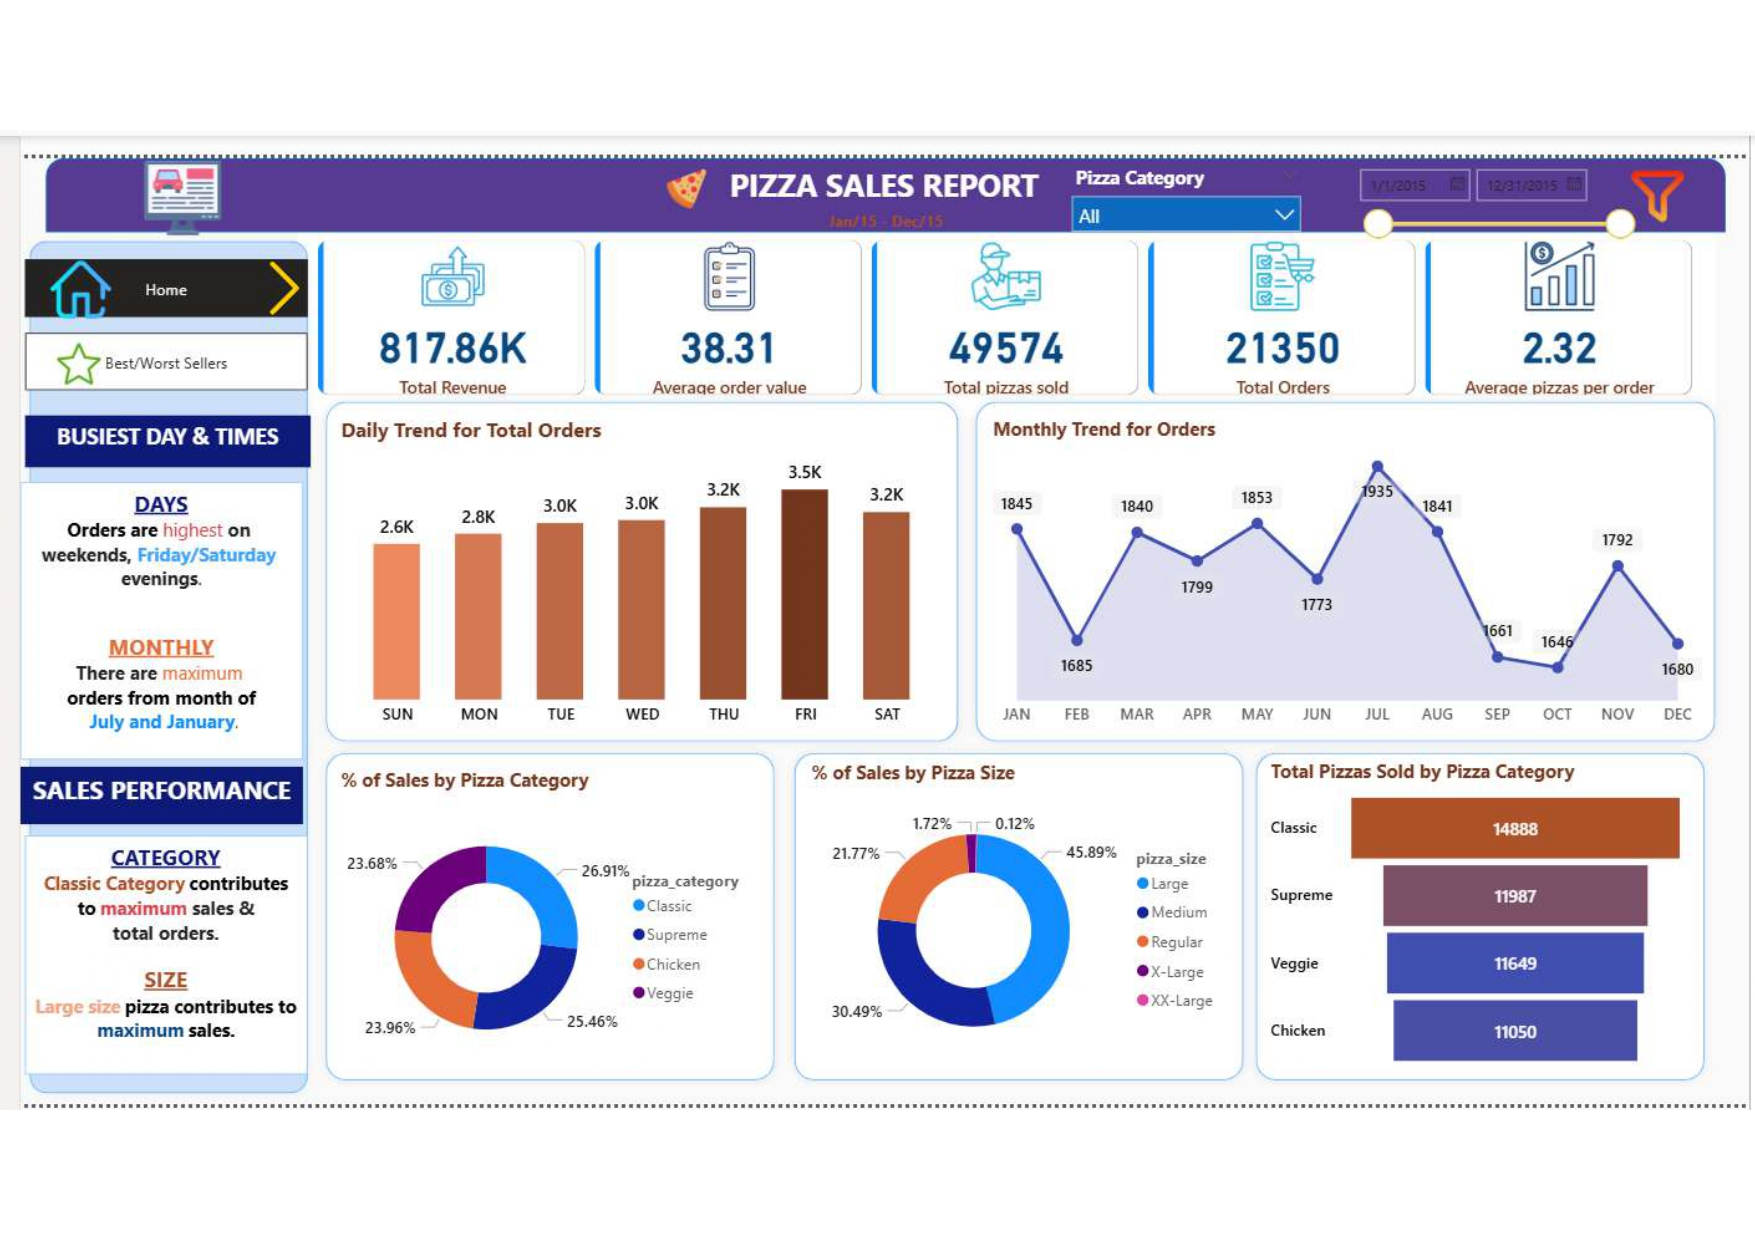

What the dashboard file says about the page in this screenshot:
{"tool":"powerbi","page":{"name":"Home","canvas":[1500,820],"ordinal":0},"visuals":[{"type":"cardVisual","fields":{"Data":["pizza_sales.Total Revenue","pizza_sales.Average order value","pizza_sales.Total pizzas sold","pizza_sales.Total Orders","pizza_sales.Average pizzas per order"]},"box":[241.1,53.6,1228.6,169.6],"z":0},{"type":"shape","box":[21.4,0,1457.1,64.3],"z":1000},{"type":"textbox","box":[678.6,39.3,142.9,28.6],"z":2000},{"type":"textbox","box":[578.6,0,342.9,46.4],"z":3000},{"type":"image","box":[560.7,0,35.7,53.6],"z":4000},{"type":"shape","box":[257.1,203.6,564.3,310.7],"z":5000},{"type":"shape","box":[0,64.3,257.1,755.4],"z":6000},{"type":"columnChart","title":"Daily Trend for Total Orders","fields":{"Category":["pizza_sales.order_Day"],"Y":["pizza_sales.Total Orders"]},"box":[273.2,223.2,533.9,278.6],"z":7000},{"type":"shape","box":[821.4,203.6,657.1,310.7],"z":8000},{"type":"areaChart","title":"Monthly Trend for Orders","fields":{"Category":["pizza_sales.order_Month"],"Y":["pizza_sales.Total Orders"]},"box":[839.3,223.2,625,278.6],"z":9000},{"type":"shape","box":[662.5,508.9,405.4,300],"z":10000},{"type":"shape","box":[1064.3,508.9,405,300],"z":11000},{"type":"shape","box":[257.1,508.9,405,300],"z":12000},{"type":"donutChart","title":"% of Sales by Pizza Category","fields":{"Category":["pizza_sales.pizza_category"],"Y":["pizza_sales.Total Revenue"]},"box":[273.2,528.6,371.4,276],"z":13000},{"type":"donutChart","title":"% of Sales by Pizza Size","fields":{"Y":["pizza_sales.Total Revenue"],"Category":["pizza_sales.pizza_size"]},"box":[680.4,521.4,371.4,275],"z":14000},{"type":"funnel","title":"Total Pizzas Sold by Pizza Category","fields":{"Category":["pizza_sales.pizza_category"],"Y":["pizza_sales.Total pizzas sold"]},"box":[1080.4,519.6,369.6,276.8],"z":15000},{"type":"textbox","box":[4.8,223.8,247.6,45.2],"z":16000},{"type":"textbox","box":[0,281,245.2,240.5],"z":17000},{"type":"textbox","box":[0,528.6,245.2,50],"z":18000},{"type":"textbox","box":[4.8,588.1,245.2,207.1],"z":19000},{"type":"slicer","fields":{"Values":["pizza_sales.pizza_category"]},"box":[901.8,0,217.9,64.3],"z":20000},{"type":"slicer","fields":{"Values":["pizza_sales.order_date"]},"box":[1150,0,259.5,138.1],"z":21000},{"type":"pageNavigator","box":[4.8,88.1,245.2,50],"z":22000},{"type":"pageNavigator","box":[4.8,152.4,245.2,50],"z":23000},{"type":"image","box":[204.8,88.1,47.6,50],"z":24000},{"type":"image","box":[0,88.1,104.8,52.4],"z":25000},{"type":"image","box":[21.4,159.5,57.1,38.1],"z":26000},{"type":"image","box":[1359.5,0,119,64.3],"z":27000},{"type":"image","box":[54.8,0,173.8,69],"z":27001}]}

Visuals, with their boxes on the page's 1500x820 design canvas (x1, y1, x2, y2). These are canvas units, not pixel positions in the 1755x1240 screenshot, which may show the page scaled, cropped or inside an application window:
cardVisual - pizza_sales.Total Revenue x pizza_sales.Average order value: (x1=241, y1=54, x2=1470, y2=223)
shape: (x1=21, y1=0, x2=1478, y2=64)
textbox: (x1=679, y1=39, x2=822, y2=68)
textbox: (x1=579, y1=0, x2=922, y2=46)
image: (x1=561, y1=0, x2=596, y2=54)
shape: (x1=257, y1=204, x2=821, y2=514)
shape: (x1=0, y1=64, x2=257, y2=820)
"Daily Trend for Total Orders" columnChart: (x1=273, y1=223, x2=807, y2=502)
shape: (x1=821, y1=204, x2=1478, y2=514)
"Monthly Trend for Orders" areaChart: (x1=839, y1=223, x2=1464, y2=502)
shape: (x1=662, y1=509, x2=1068, y2=809)
shape: (x1=1064, y1=509, x2=1469, y2=809)
shape: (x1=257, y1=509, x2=662, y2=809)
"% of Sales by Pizza Category" donutChart: (x1=273, y1=529, x2=645, y2=805)
"% of Sales by Pizza Size" donutChart: (x1=680, y1=521, x2=1052, y2=796)
"Total Pizzas Sold by Pizza Category" funnel: (x1=1080, y1=520, x2=1450, y2=796)
textbox: (x1=5, y1=224, x2=252, y2=269)
textbox: (x1=0, y1=281, x2=245, y2=522)
textbox: (x1=0, y1=529, x2=245, y2=579)
textbox: (x1=5, y1=588, x2=250, y2=795)
slicer - pizza_sales.pizza_category: (x1=902, y1=0, x2=1120, y2=64)
slicer - pizza_sales.order_date: (x1=1150, y1=0, x2=1410, y2=138)
pageNavigator: (x1=5, y1=88, x2=250, y2=138)
pageNavigator: (x1=5, y1=152, x2=250, y2=202)
image: (x1=205, y1=88, x2=252, y2=138)
image: (x1=0, y1=88, x2=105, y2=140)
image: (x1=21, y1=160, x2=78, y2=198)
image: (x1=1360, y1=0, x2=1478, y2=64)
image: (x1=55, y1=0, x2=229, y2=69)
